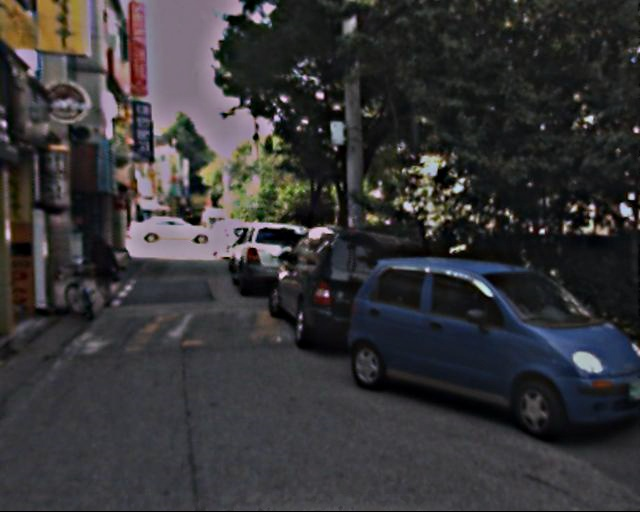person: (86, 226, 118, 305)
